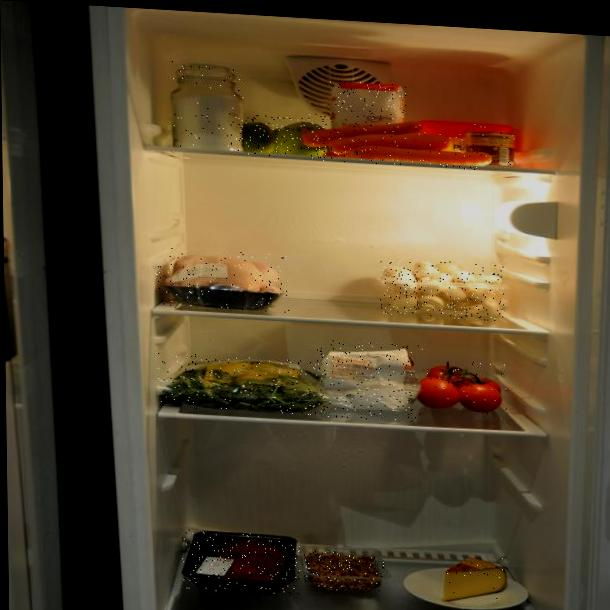apple: (229, 113, 334, 160)
beef: (181, 530, 300, 597)
carrot: (300, 113, 495, 171)
cheese: (441, 554, 511, 606)
chicken: (155, 247, 289, 313)
corn: (465, 131, 516, 168)
flour: (317, 340, 425, 423)
mushrooms: (378, 257, 507, 322)
shrimp: (303, 551, 384, 593)
spinach: (157, 352, 331, 417)
sugar: (171, 61, 247, 154), (330, 80, 408, 162)
tomato: (412, 358, 507, 416)
